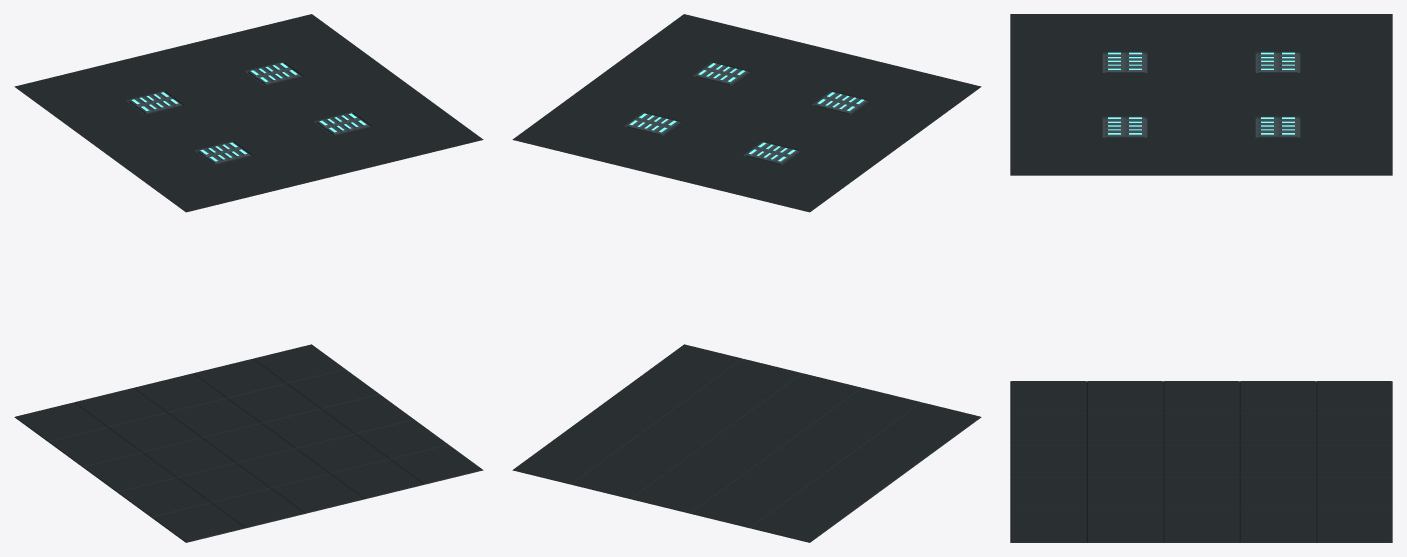
The model's file is hallC90Mid03.fbx.
3 views of the same model, side by side, from view 1: azimuth 30°, elevation 25°; view 2: azimuth 150°, elevation 25°; view 3: azimuth 270°, elevation 25° (orthographic). The views are drawn at different scales.
Parts seen in each view (by area): view 1: hallC90Mid03; view 2: hallC90Mid03; view 3: hallC90Mid03.
Boxes of the visible parts, box(x1,y1,x2,y2) form: hallC90Mid03: box(14, 14, 483, 542); hallC90Mid03: box(512, 14, 981, 542); hallC90Mid03: box(1010, 14, 1392, 542).
Size of what is drawn, in the model's own units: 10 by 10 by 10.64.
